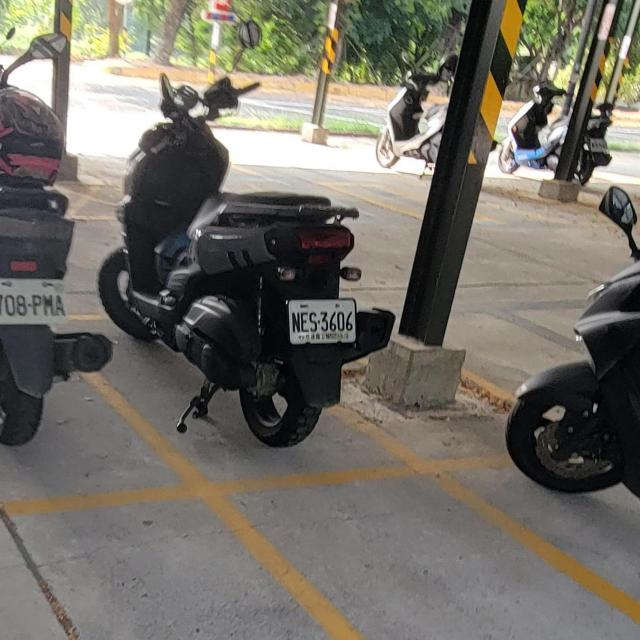W: (283, 288, 362, 351), (0, 271, 70, 333)
